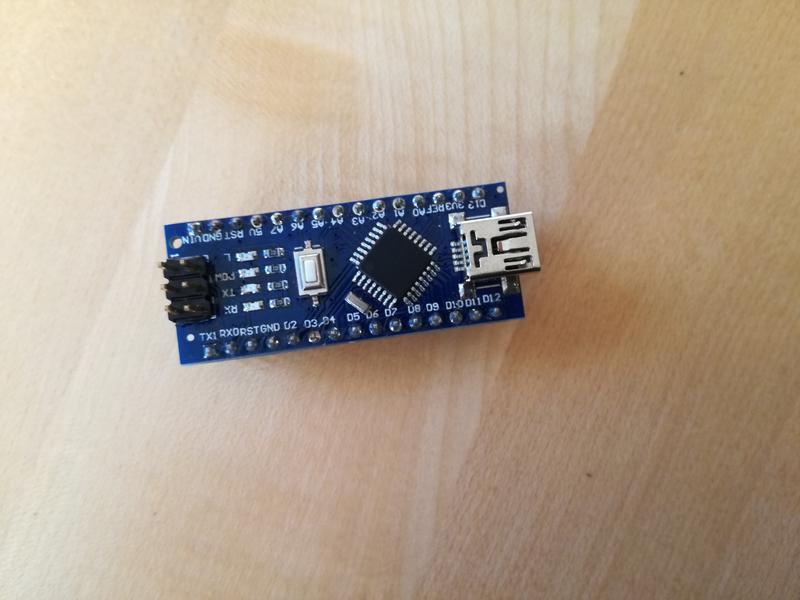Arduino_Nano: (158, 179, 540, 372)
